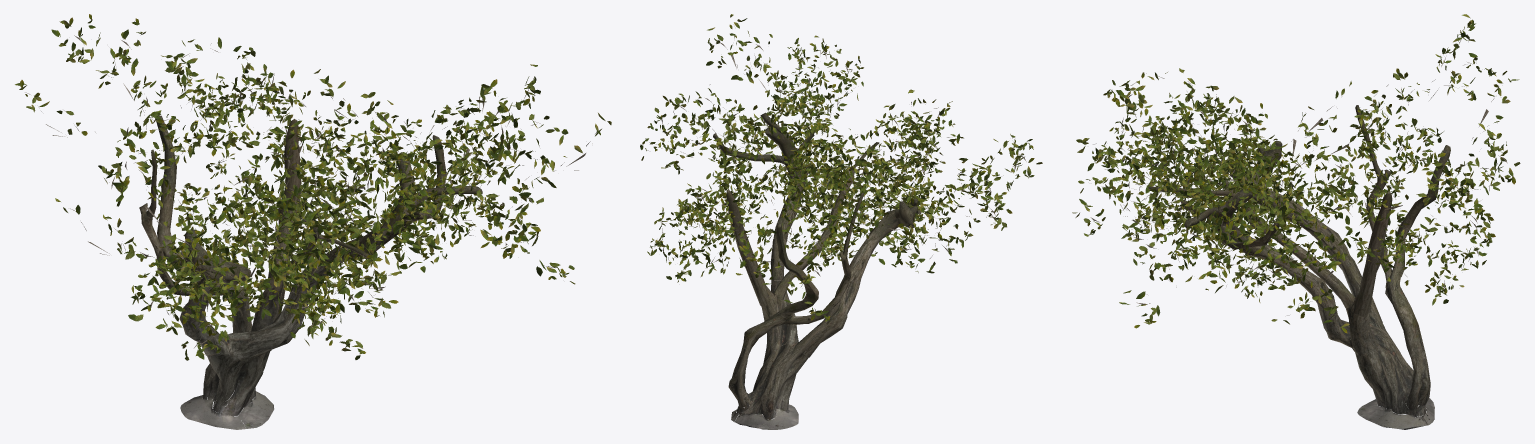
File: vegetation-coastal-tree.glb
3 views of the same model, side by side, from view 1: azimuth 30°, elevation 25°; view 2: azimuth 150°, elevation 25°; view 3: azimuth 270°, elevation 25° (orthographic). The views are drawn at different scales.
Parts seen in each view (by area): view 1: Tree_leaves_LOD0, Tree_trunk_LOD0, Tree_branches_LOD0; view 2: Tree_leaves_LOD0, Tree_trunk_LOD0, Tree_branches_LOD0; view 3: Tree_leaves_LOD0, Tree_trunk_LOD0, Tree_branches_LOD0.
Part boxes in pixels (x1,y1,x2,y2): Tree_leaves_LOD0: (15, 14, 611, 360); Tree_trunk_LOD0: (139, 115, 482, 429); Tree_branches_LOD0: (25, 35, 596, 347); Tree_leaves_LOD0: (640, 14, 1042, 321); Tree_trunk_LOD0: (713, 112, 921, 429); Tree_branches_LOD0: (647, 42, 1026, 311); Tree_leaves_LOD0: (1072, 14, 1520, 333); Tree_trunk_LOD0: (1148, 105, 1450, 429); Tree_branches_LOD0: (1090, 34, 1507, 315).
Size of what is drawn, in the model's own units: 3.84 by 3.4 by 4.04.
Materials: 3 (3 with a texture image).
